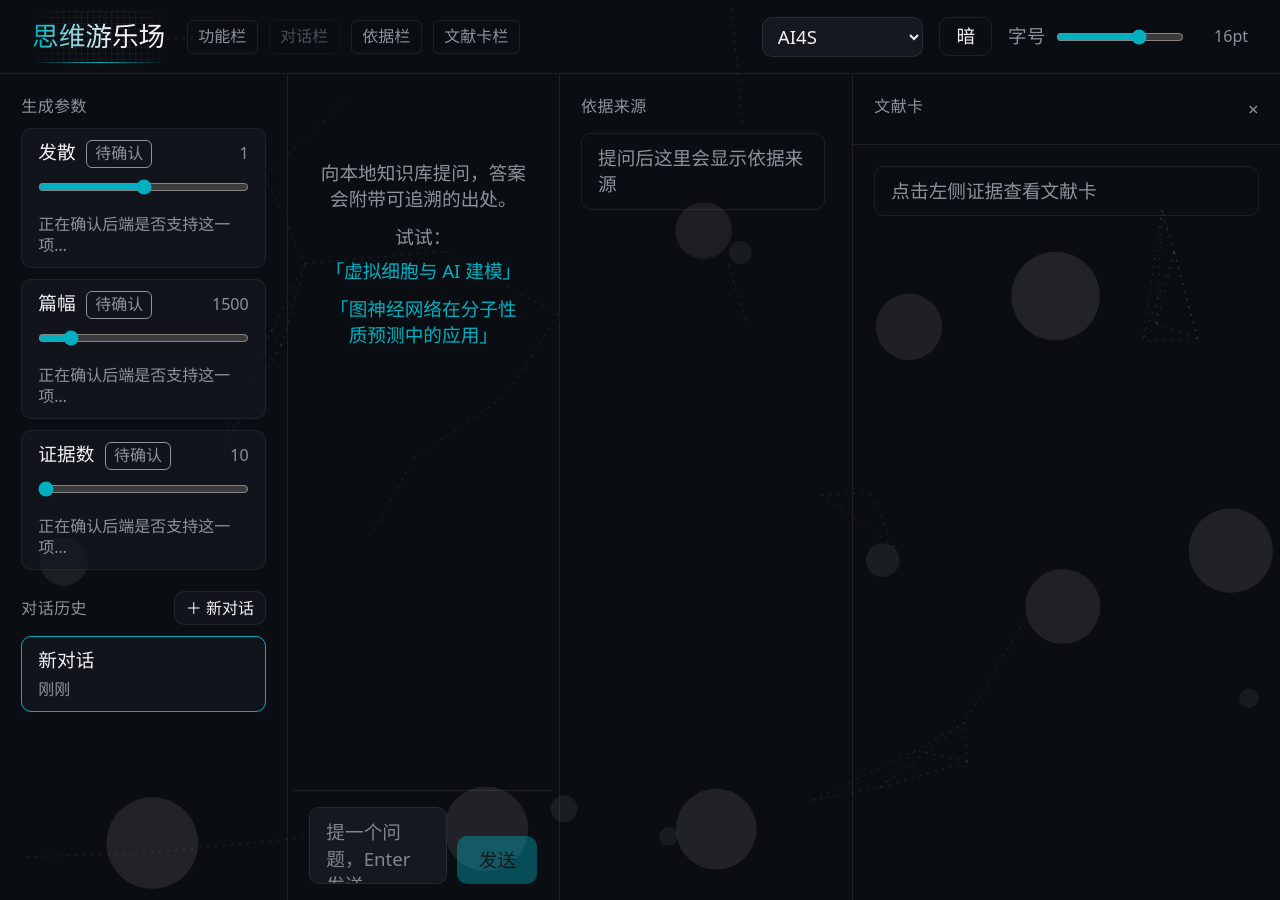
App —— 答案引用标记 → 证据卡（T56） › 引用指向的轮次不在显示集合里时：先切到该轮再选中（否则屏上没有那张卡）
Type "第一问" into the text box at (378, 846), box 309,807 -> 447,884
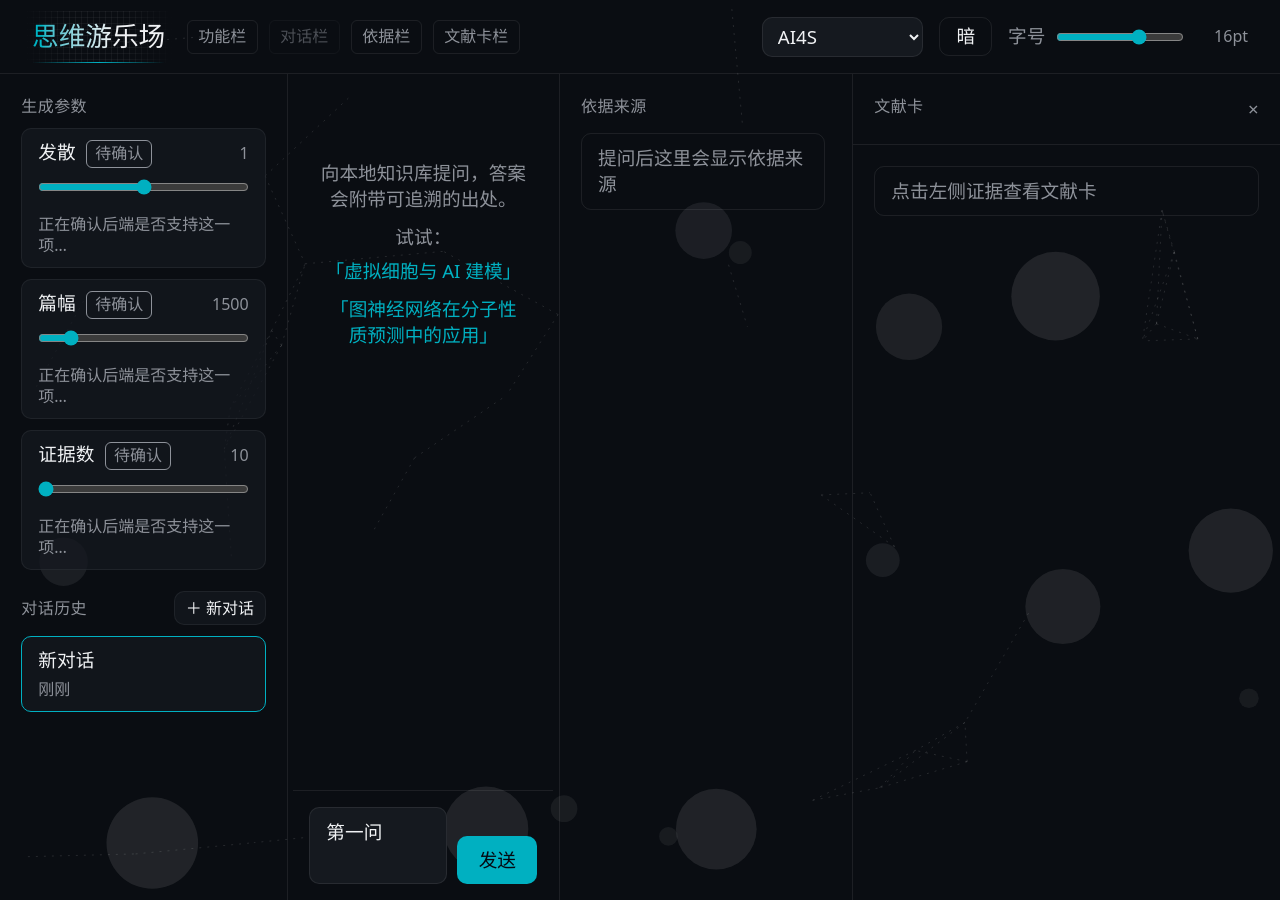
Press Enter in the text box, box 309,807 -> 447,884
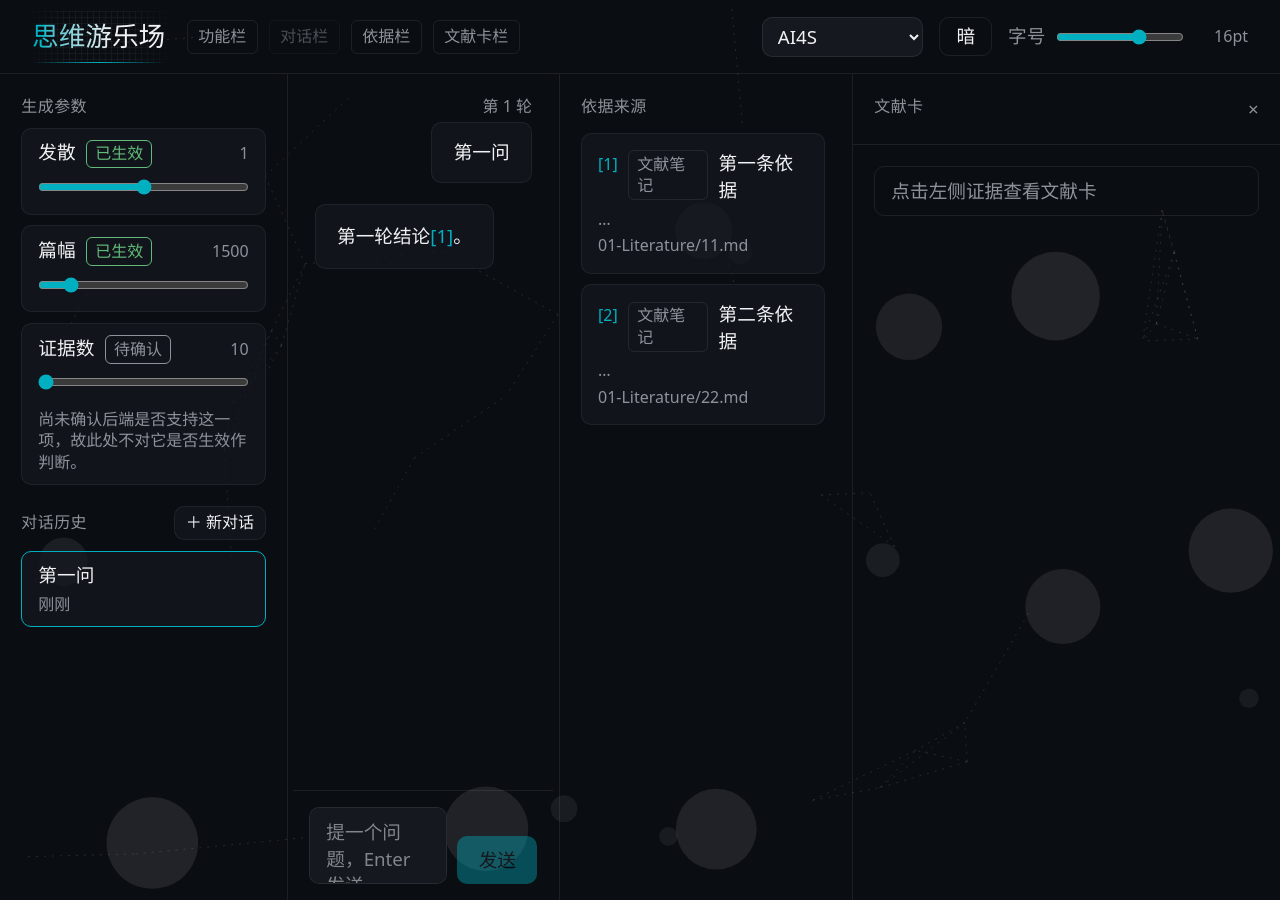
Check: the button "[1] 文献笔记 第一条依据 … 01-Literature/11.md" is shown, box 598,150 -> 808,257
Type "第二问" into the text box at (378, 846), box 309,807 -> 447,884
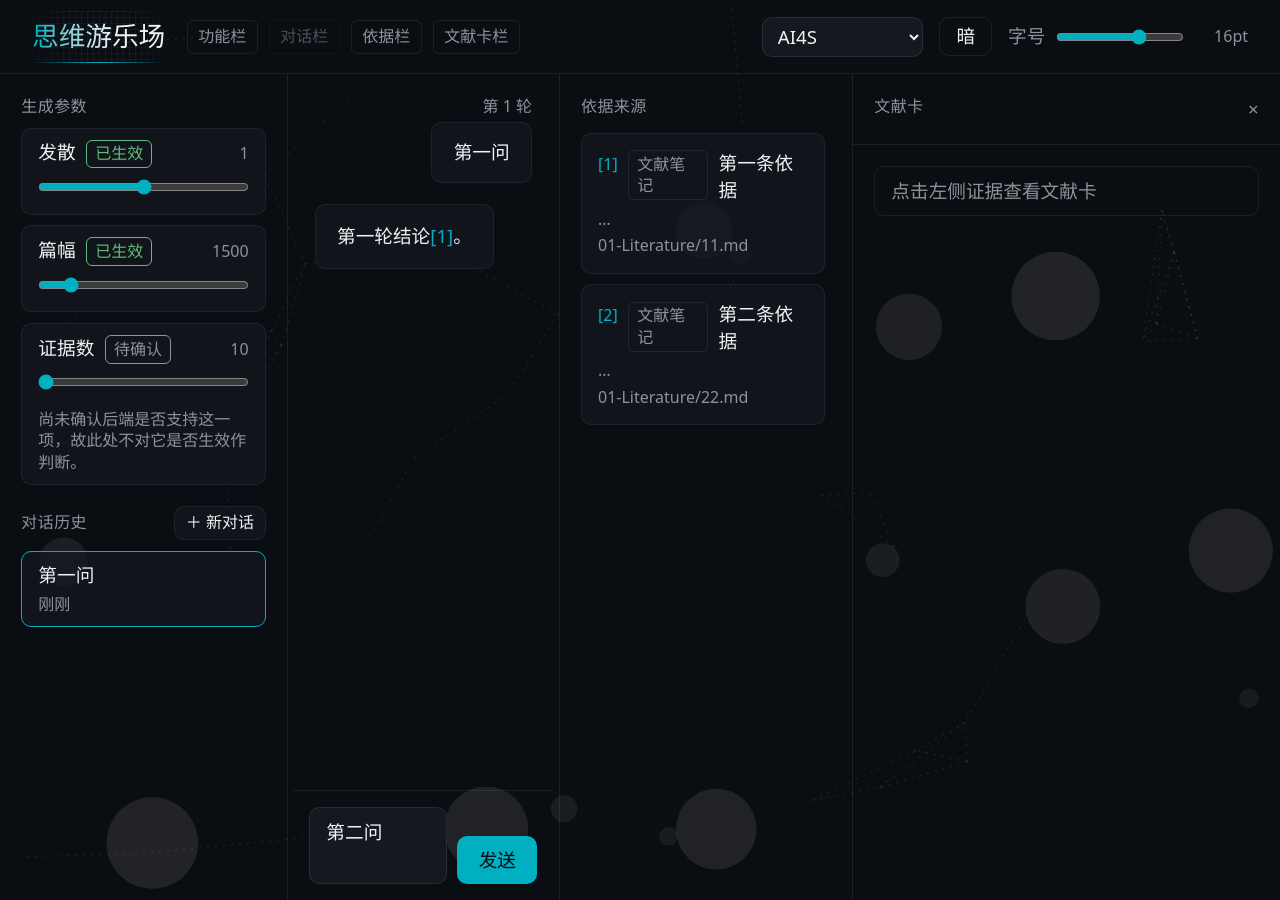
Press Enter in the text box, box 309,807 -> 447,884
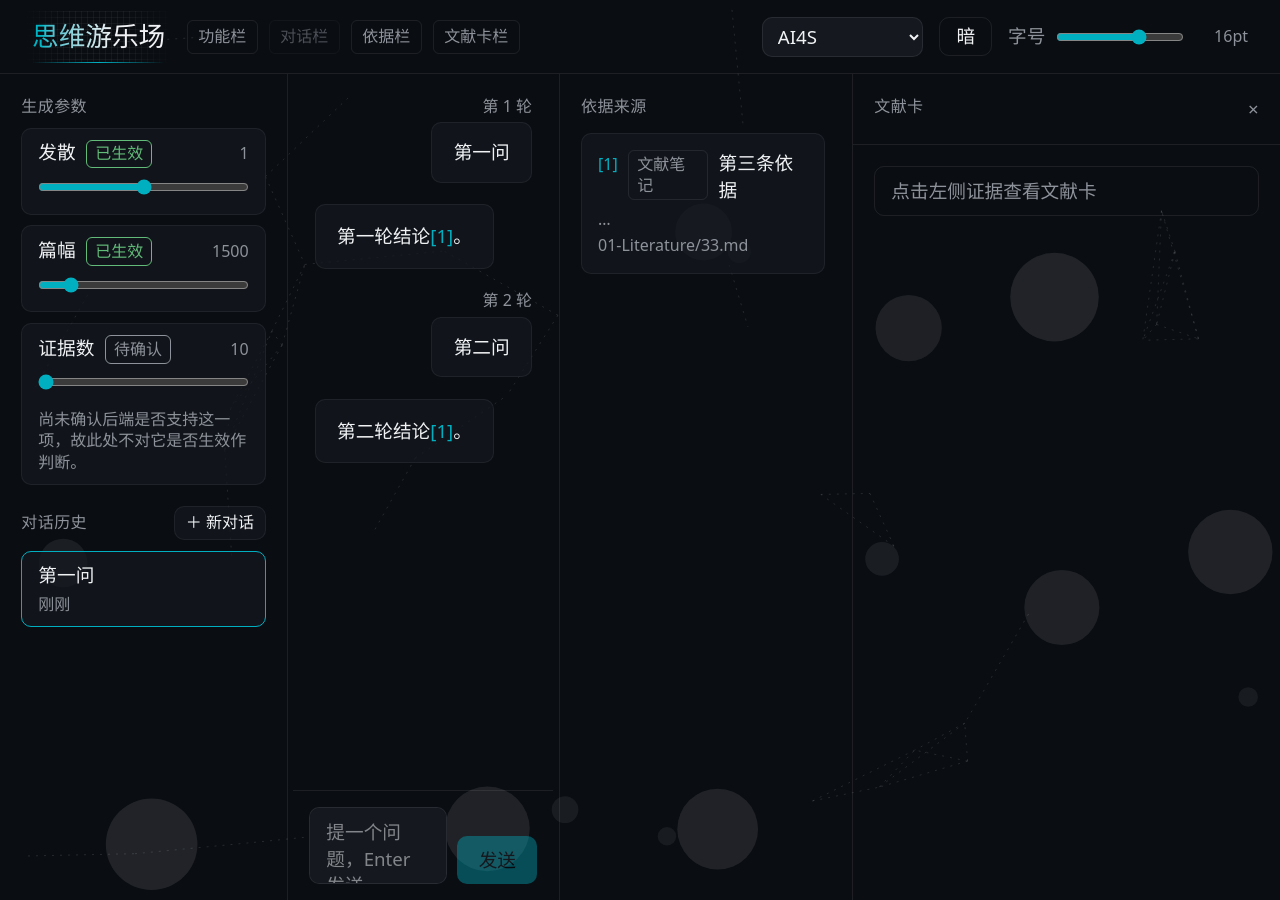
Check: the button "[1] 文献笔记 第三条依据 … 01-Literature/33.md" is shown, box 598,150 -> 808,257
Check: the button "第一条依据" is gone
Click the button with test id "citation-link" next to "第一轮结论" at (442, 237), box 430,222 -> 453,252
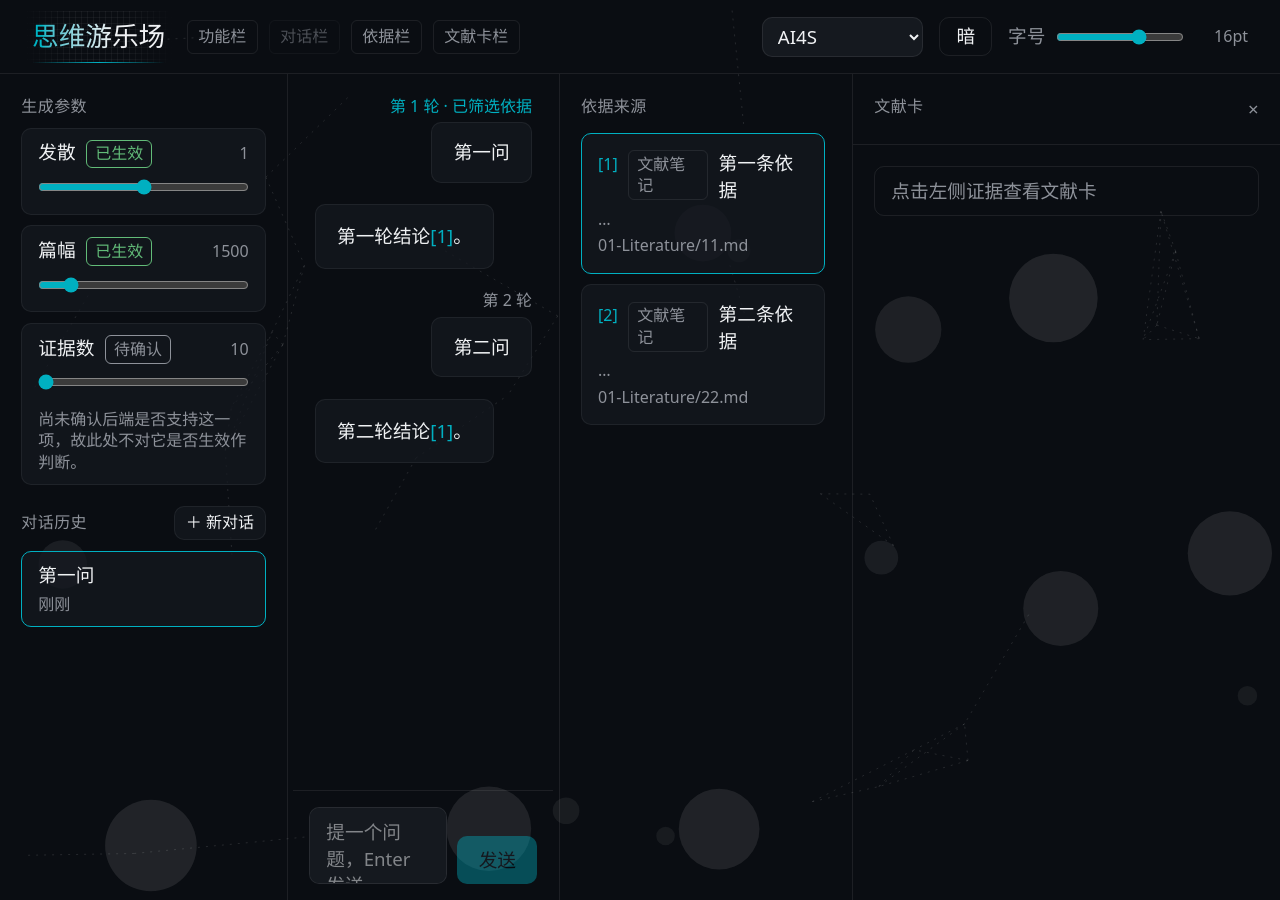
Check: the text "第 1 轮 · 已筛选依据" is shown, box 390,96 -> 532,117
